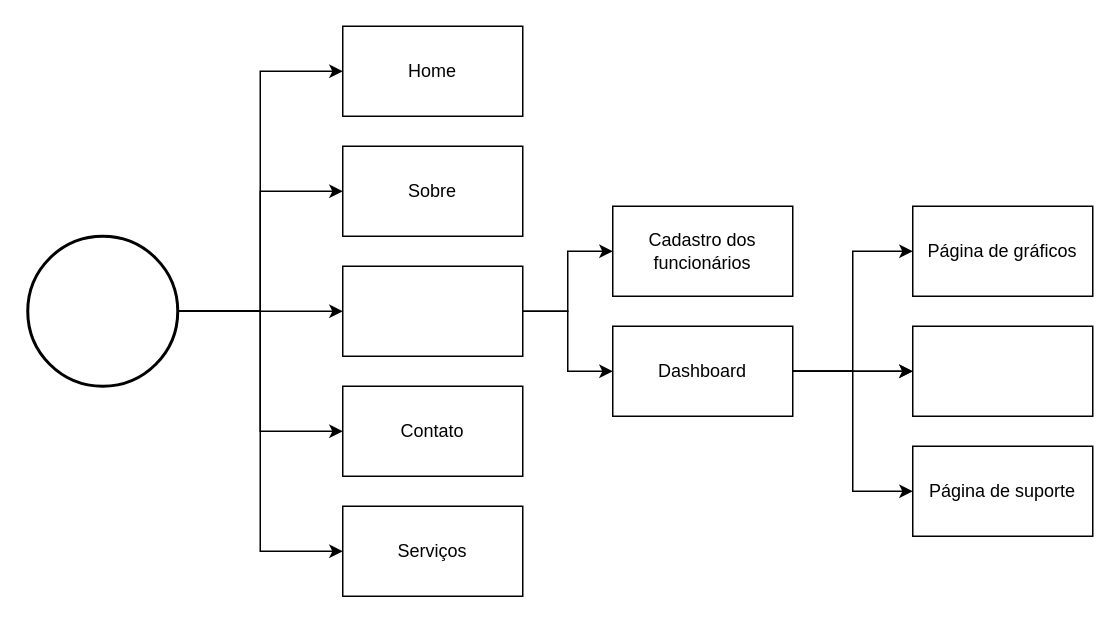
Some shapes in this 1119 by 623 pixel diagram are drawn without their labels. The centre of each missing label's shape, as x and y in pixels:
"Analytics" goes at point (1002, 370).
"Login" goes at point (432, 310).
"Start" goes at point (102, 310).
